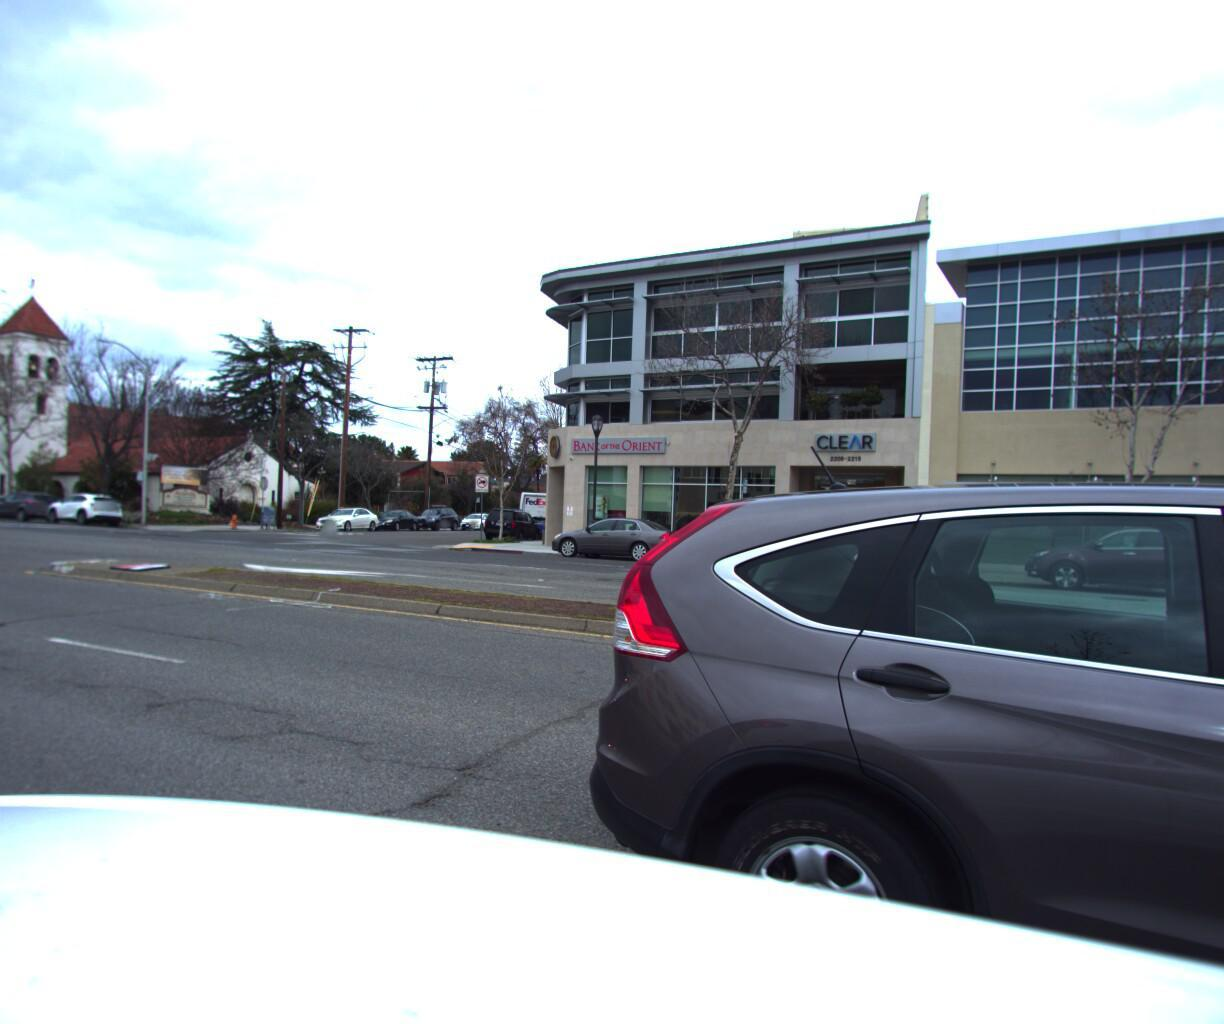car: (510, 475, 1224, 1024), (1009, 518, 1224, 604), (532, 510, 695, 563), (34, 487, 120, 523), (474, 500, 544, 539), (305, 499, 384, 528), (0, 486, 62, 521), (407, 497, 461, 527), (361, 504, 419, 530), (516, 509, 567, 537), (454, 507, 498, 527), (653, 514, 679, 530)
truck: (512, 484, 579, 532)
